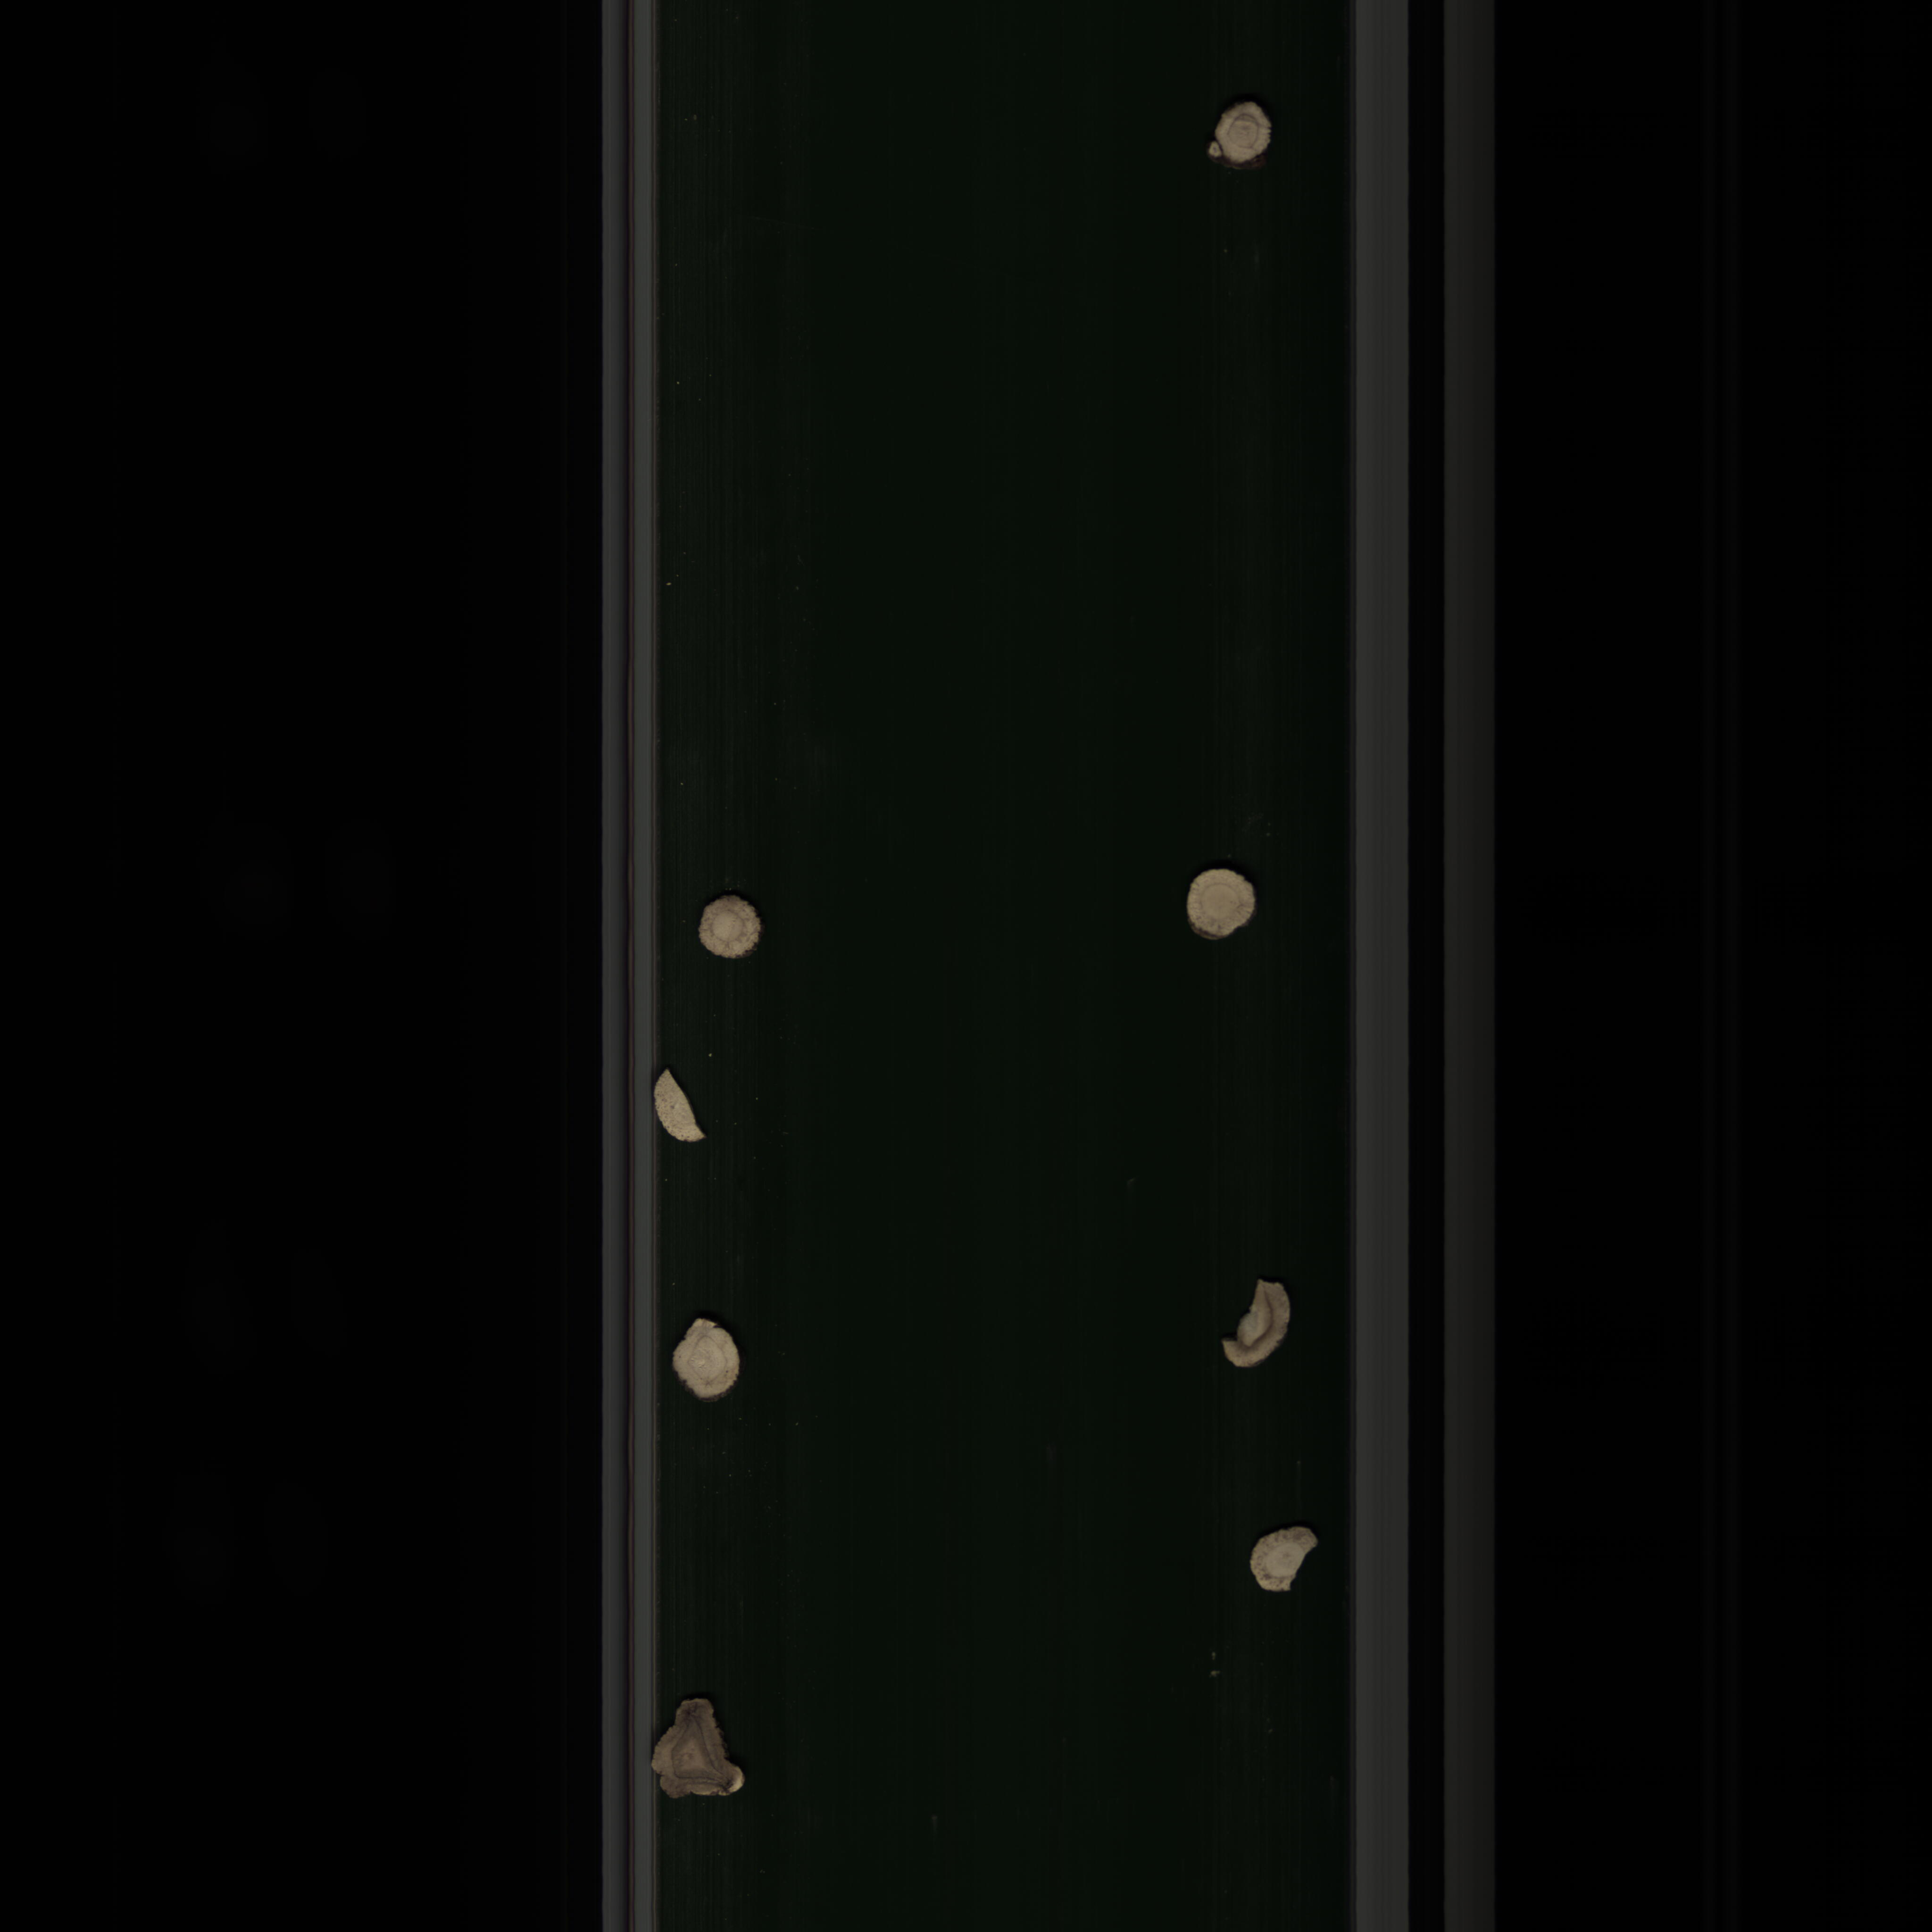debris: (1238, 1520, 1329, 1606), (644, 1065, 711, 1159)
distortion: (1201, 94, 1274, 177)
moldy: (640, 1697, 750, 1810), (1215, 1274, 1293, 1387)
